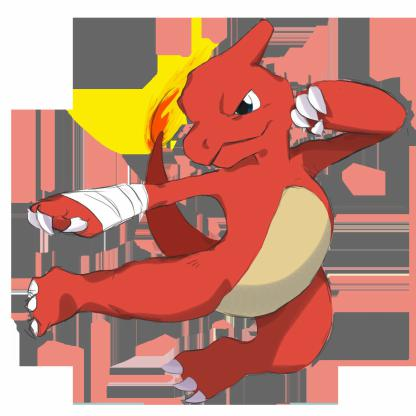Charmeleon: (17, 20, 416, 409)
